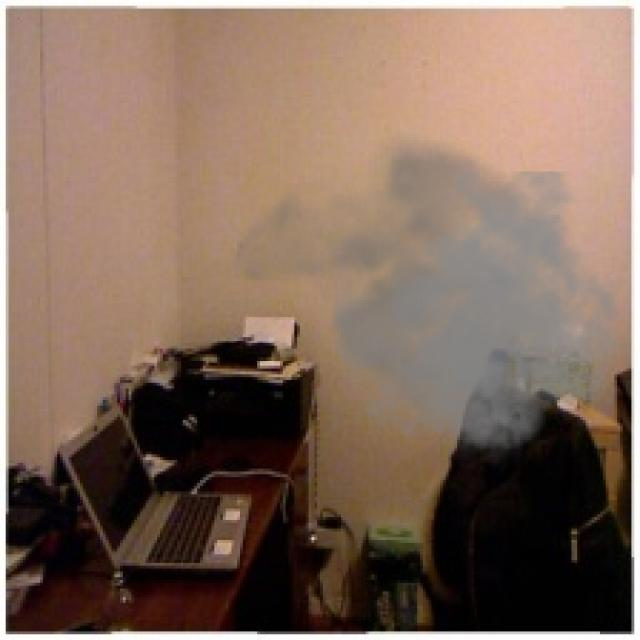smoke: (226, 129, 631, 474)
